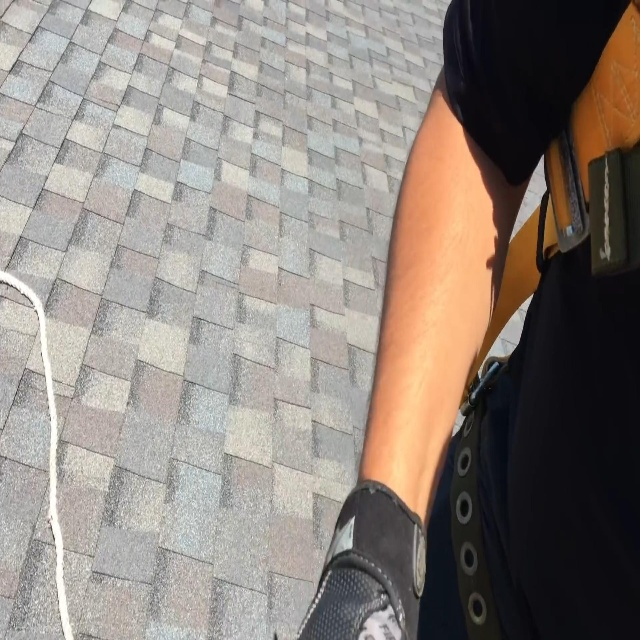Arnes_seguridad: (419, 0, 640, 640)
